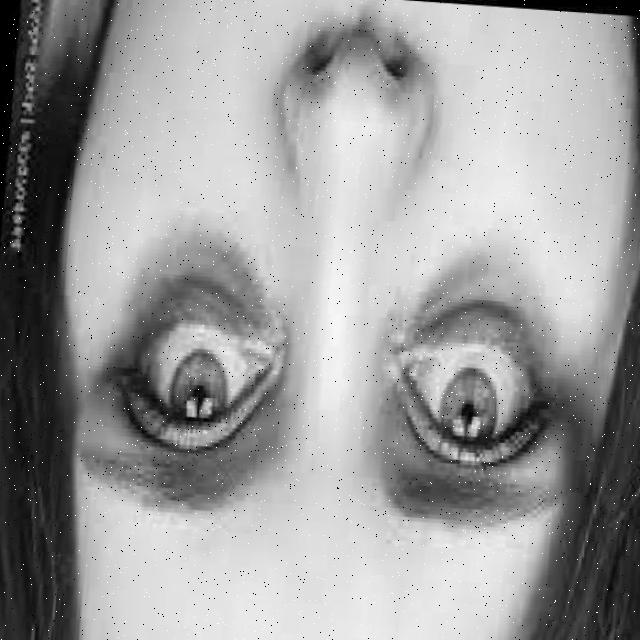puffy_eyes: (130, 222, 269, 345), (409, 262, 530, 359)
